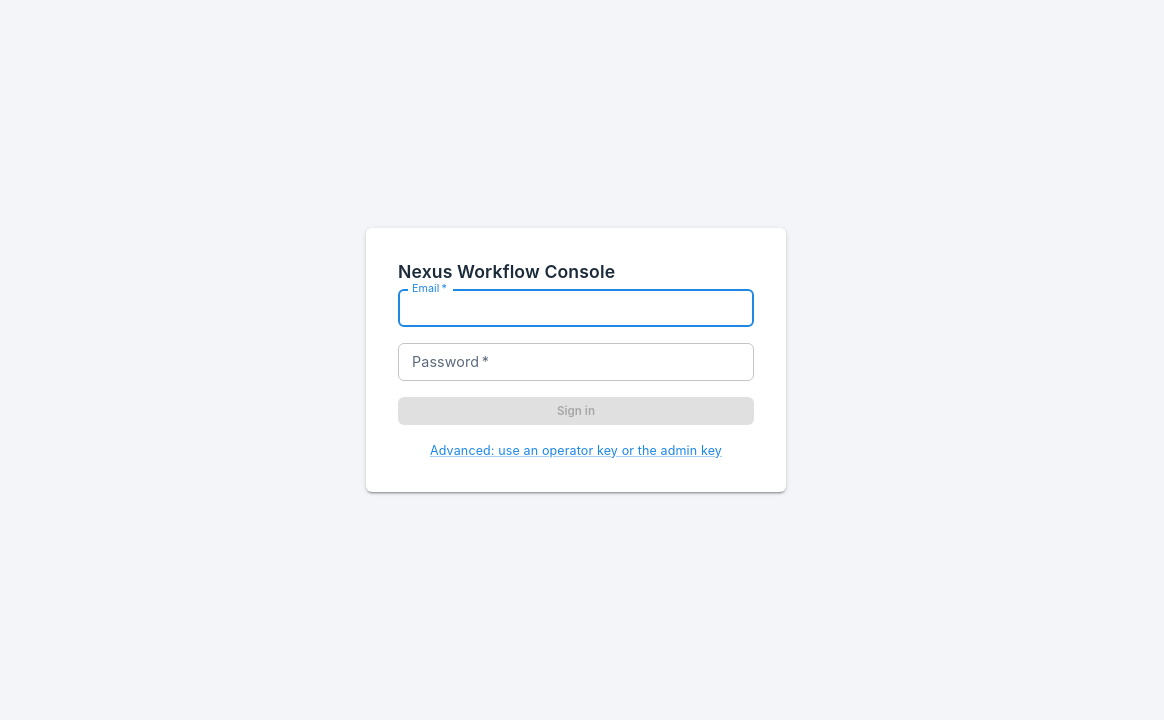
Scenario: App sign-in with an account › goes back to the sign-in page with a clear message when the session expires
Type "op@example.com" into the field labelled "Email *" at (576, 309), box [398, 290, 754, 327]
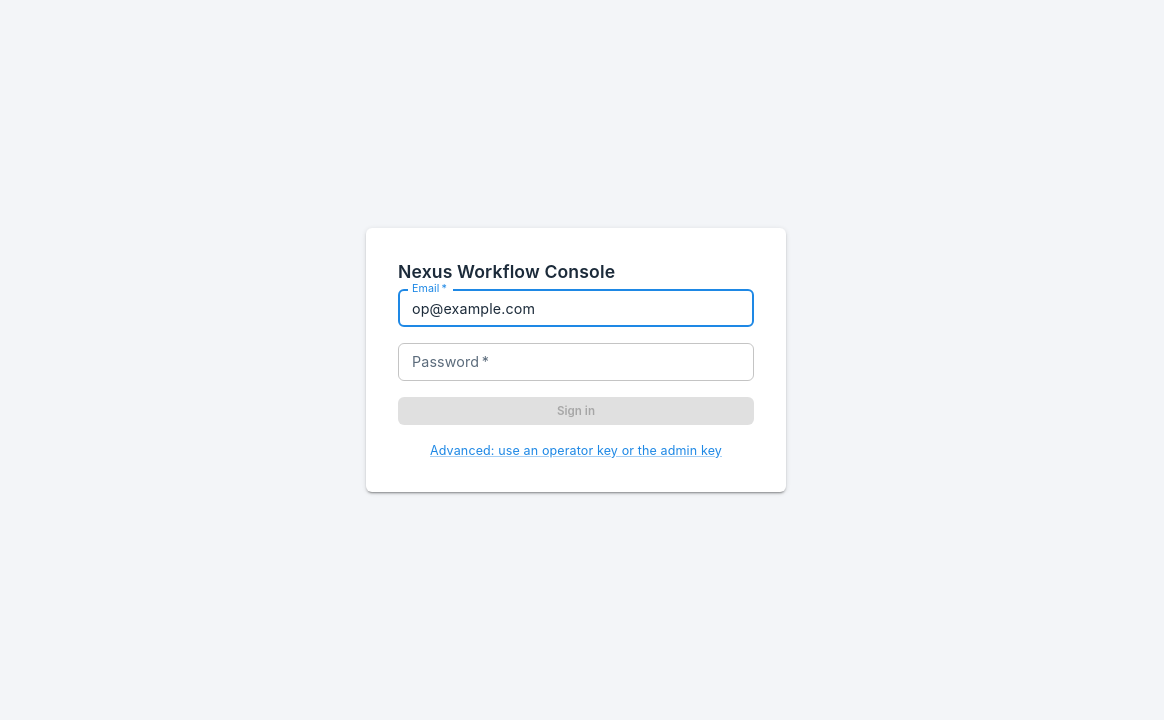
Type "correct horse" into the password field labelled "Password *" at (576, 362), box [398, 343, 754, 381]
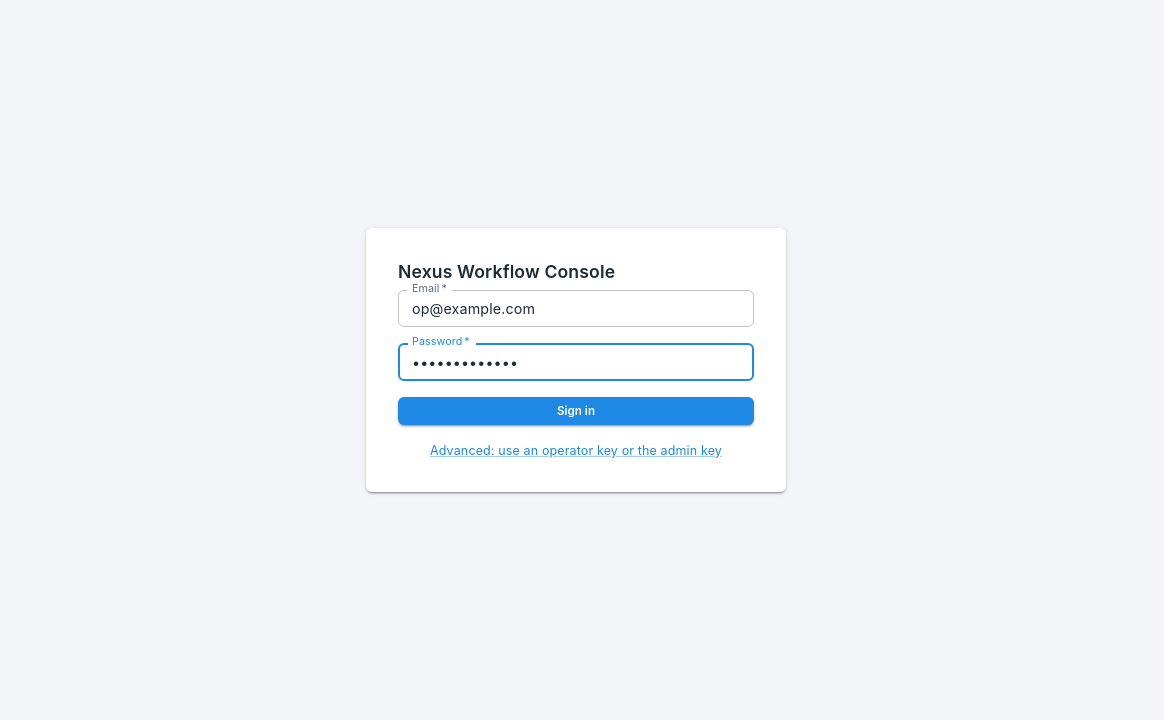
Click the button "Sign in" at (576, 411), box [398, 397, 754, 425]
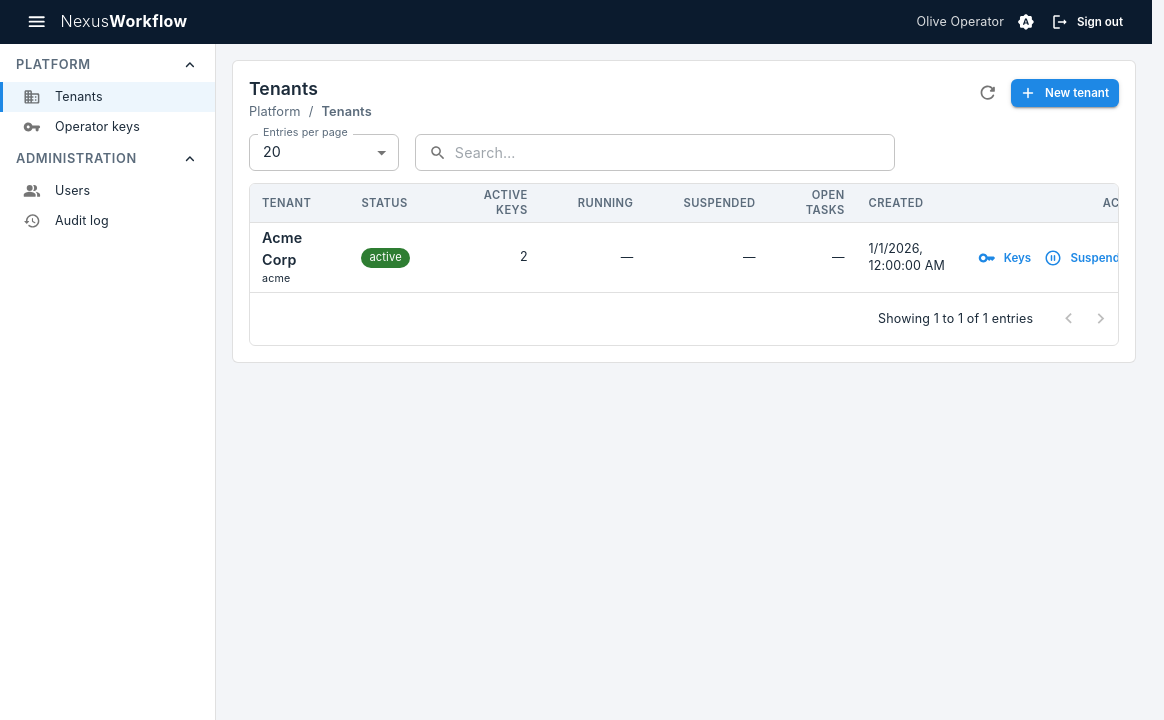
expect the text "Acme Corp" is shown: met, box [262, 229, 302, 268]
Click the button named "Refresh" at (987, 93), box [972, 77, 1003, 108]
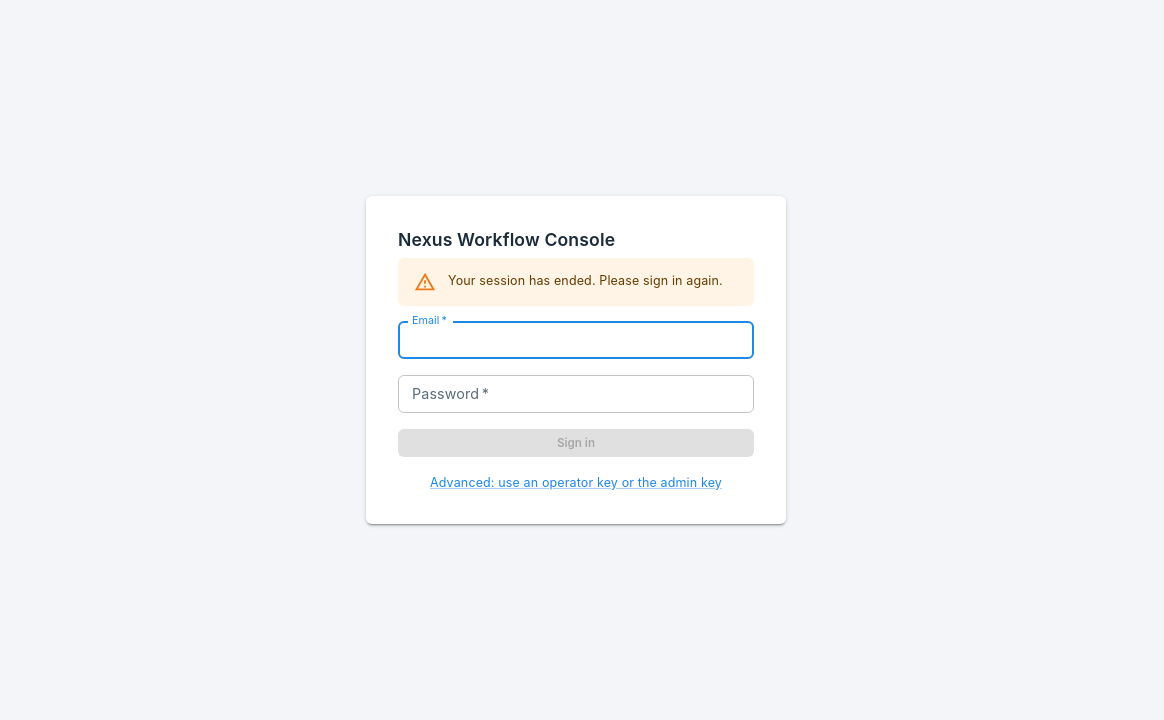
expect the text "Your session has ended. Please sign in again." is shown: met, box [448, 273, 723, 288]
expect the field labelled "Email *" is shown: met, box [398, 322, 754, 359]
